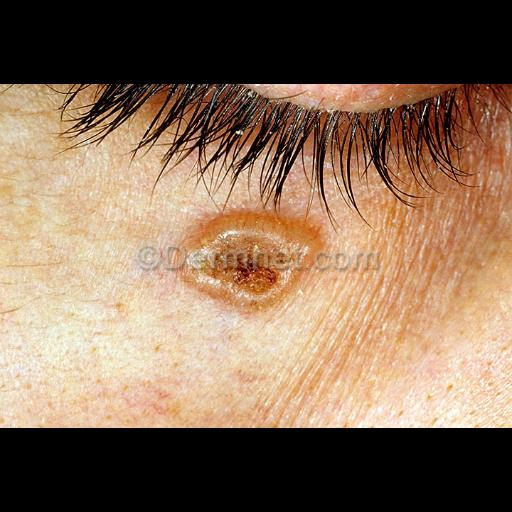Skin_Lesion: (166, 180, 318, 320)
